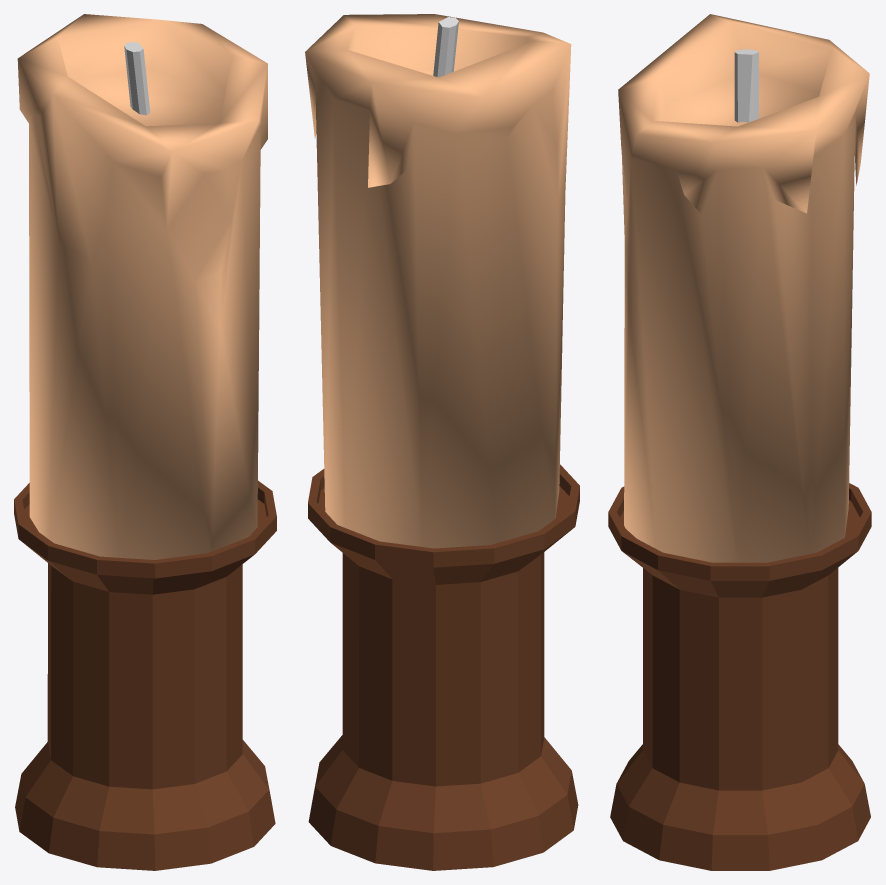
File: Candle.fbx
3 renders of one model, left to right at view 1: azimuth 30°, elevation 25°; view 2: azimuth 150°, elevation 25°; view 3: azimuth 270°, elevation 25°, orthographic. The views are drawn at different scales.
Parts seen in each view (by area): view 1: Candle.006, Cylinder.001, Stray.002; view 2: Candle.006, Cylinder.001, Stray.002; view 3: Candle.006, Cylinder.001, Stray.002.
Boxes of the visible parts, <box> form: Candle.006: <box>17,14,267,559</box>; Cylinder.001: <box>14,480,276,870</box>; Stray.002: <box>124,42,150,115</box>; Candle.006: <box>305,14,571,548</box>; Cylinder.001: <box>308,464,579,870</box>; Stray.002: <box>433,17,458,77</box>; Candle.006: <box>618,14,869,562</box>; Cylinder.001: <box>608,483,871,870</box>; Stray.002: <box>734,49,758,122</box>.
Bounding box in the file's own units: 8.01 × 26.22 × 8.21.
